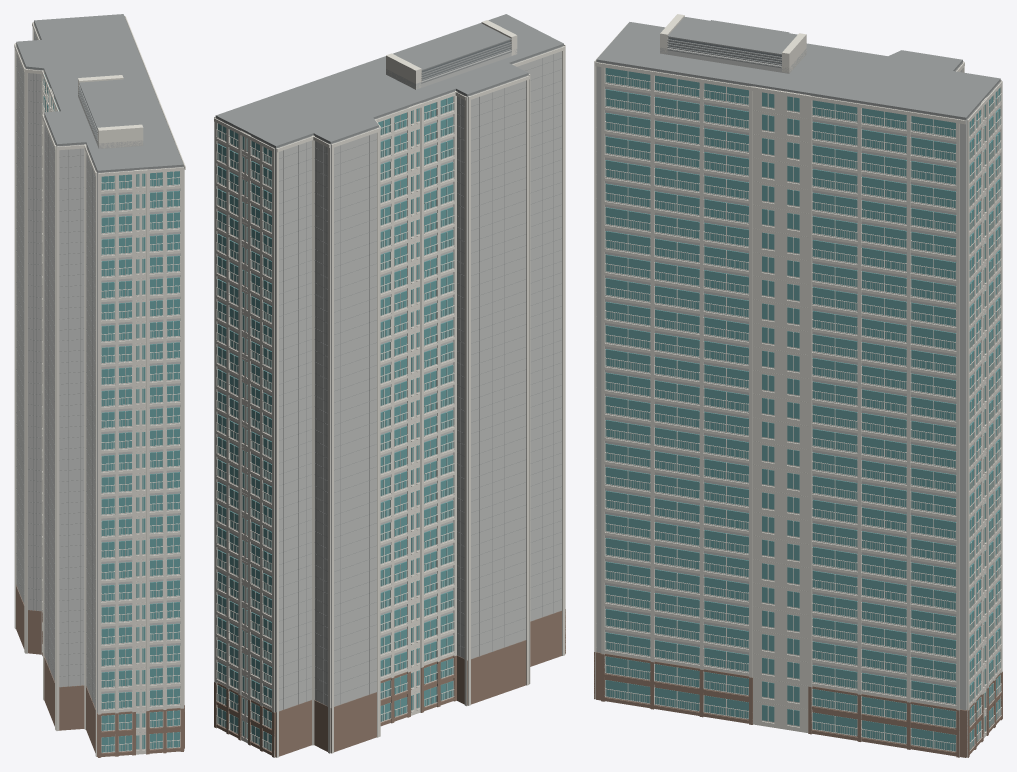
Rendered from bespoke-jamsil-els-167.glb.
3 renders of one model, left to right at view 1: azimuth 30°, elevation 25°; view 2: azimuth 150°, elevation 25°; view 3: azimuth 270°, elevation 25°, orthographic. The views are drawn at different scales.
Visible parts, largest first — view 1: Els167_editable_Els167_light_grey_solid_wall002, Els167_white_exact_chunk_2, Els167_editable_Els167_turquoise_balcony_glazing002, Els167_editable_Els167_modest_grey_flat_roof_caps002, Els167_white_exact_chunk_1, Els167_white_exact_chunk_0, Els167_editable_Els167_muted_ground_wall002, Els167_white_exact_chunk_5, Els167_white_exact_chunk_4; view 2: Els167_editable_Els167_light_grey_solid_wall002, Els167_editable_Els167_turquoise_balcony_glazing002, Els167_white_exact_chunk_0, Els167_white_exact_chunk_1, Els167_editable_Els167_modest_grey_flat_roof_caps002, Els167_editable_Els167_muted_ground_wall002, Els167_white_exact_chunk_5, Els167_white_exact_chunk_2; view 3: Els167_editable_Els167_turquoise_balcony_glazing002, Els167_editable_Els167_light_grey_solid_wall002, Els167_white_exact_chunk_4, Els167_white_exact_chunk_2, Els167_white_exact_chunk_5, Els167_white_exact_chunk_3, Els167_white_exact_chunk_0, Els167_editable_Els167_modest_grey_flat_roof_caps002, Els167_editable_Els167_muted_ground_wall002, Els167_editable_Els167_narrow_charcoal_service_strips002.
Boxes of the visible parts, box(x1,y1,x2,y2) form: Els167_editable_Els167_light_grey_solid_wall002: box(16, 22, 183, 732); Els167_white_exact_chunk_2: box(98, 167, 183, 756); Els167_editable_Els167_turquoise_balcony_glazing002: box(43, 74, 179, 752); Els167_editable_Els167_modest_grey_flat_roof_caps002: box(16, 14, 183, 707); Els167_white_exact_chunk_1: box(42, 70, 147, 756); Els167_white_exact_chunk_0: box(14, 22, 53, 654); Els167_editable_Els167_muted_ground_wall002: box(16, 585, 184, 757); Els167_white_exact_chunk_5: box(78, 16, 185, 169); Els167_white_exact_chunk_4: box(159, 102, 184, 707); Els167_editable_Els167_light_grey_solid_wall002: box(216, 46, 563, 720); Els167_editable_Els167_turquoise_balcony_glazing002: box(217, 96, 453, 750); Els167_white_exact_chunk_0: box(214, 103, 421, 757); Els167_white_exact_chunk_1: box(375, 46, 565, 722); Els167_editable_Els167_modest_grey_flat_roof_caps002: box(215, 14, 563, 711); Els167_editable_Els167_muted_ground_wall002: box(214, 609, 565, 757); Els167_white_exact_chunk_5: box(214, 20, 517, 117); Els167_white_exact_chunk_2: box(564, 44, 565, 654); Els167_editable_Els167_turquoise_balcony_glazing002: box(605, 68, 1000, 751); Els167_editable_Els167_light_grey_solid_wall002: box(596, 47, 1000, 713); Els167_white_exact_chunk_4: box(601, 63, 906, 744); Els167_white_exact_chunk_2: box(594, 23, 810, 732); Els167_white_exact_chunk_5: box(595, 14, 965, 757); Els167_white_exact_chunk_3: box(604, 67, 748, 719); Els167_white_exact_chunk_0: box(956, 61, 1002, 757); Els167_editable_Els167_modest_grey_flat_roof_caps002: box(596, 17, 1000, 119); Els167_editable_Els167_muted_ground_wall002: box(594, 652, 1002, 757); Els167_editable_Els167_narrow_charcoal_service_strips002: box(668, 37, 781, 64).
Size of the model in its own units: 23.89 by 73.95 by 41.5.
